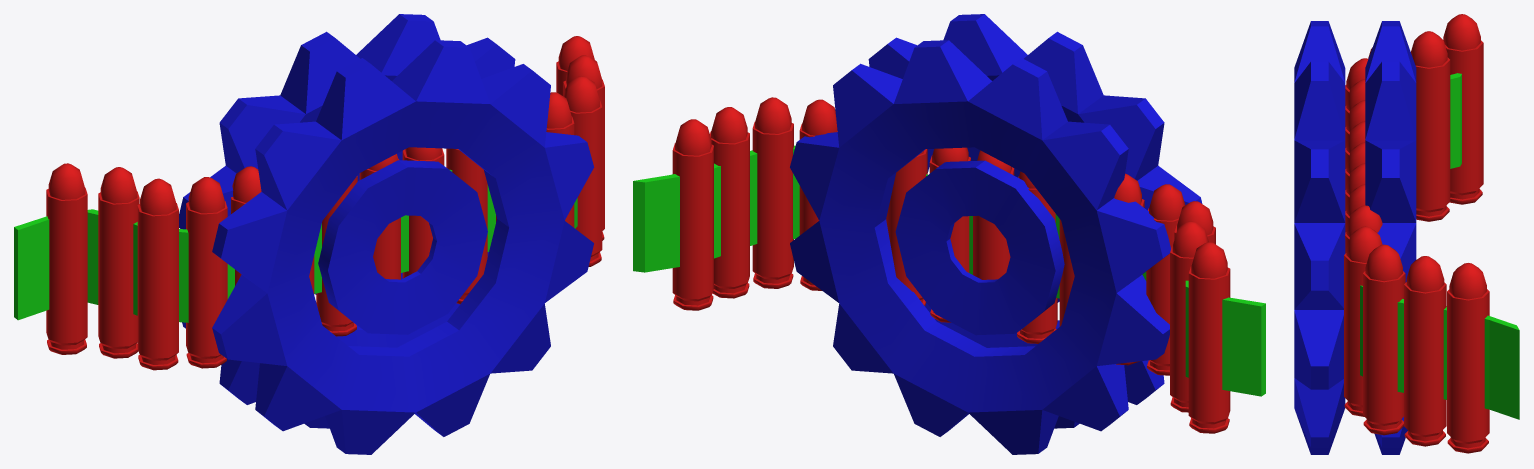
The model's file is WorkshopAmmo.fbx.
3 renders of one model, left to right at view 1: azimuth 30°, elevation 25°; view 2: azimuth 150°, elevation 25°; view 3: azimuth 270°, elevation 25°, orthographic.
Parts seen in each view (by area): view 1: Workshop Ammunition; view 2: Workshop Ammunition; view 3: Workshop Ammunition.
Part boxes in pixels (box(x1,y1,x2,y2)): Workshop Ammunition: box(14, 14, 604, 454); Workshop Ammunition: box(633, 14, 1265, 454); Workshop Ammunition: box(1294, 14, 1519, 454).
Size of the model in its own units: 27.91 by 17.36 by 9.14.
